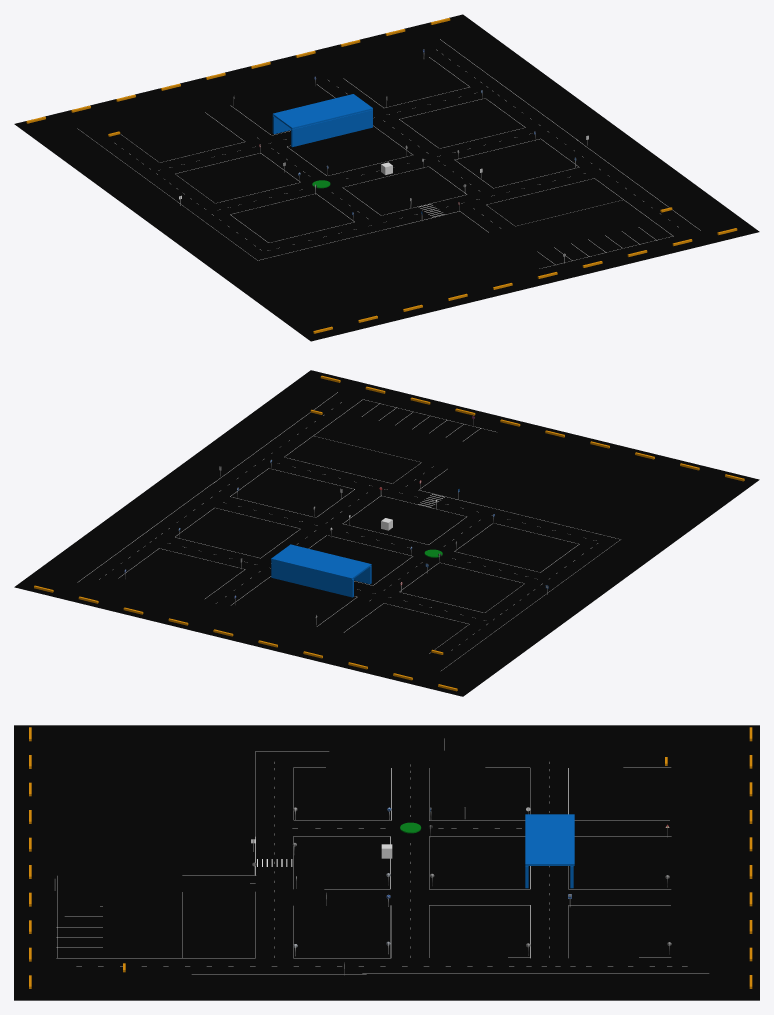
The model's file is RobotaksiMap.dae.
3 renders of one model, top to bottom at view 1: azimuth 30°, elevation 25°; view 2: azimuth 150°, elevation 25°; view 3: azimuth 270°, elevation 25°, orthographic. The views are drawn at different scales.
Parts seen in each view (by area): view 1: Plane.001, Cube_002.001, Cube_001.001; view 2: Plane.001, Cube_002.001, Cube.002; view 3: Plane.001, Cube_002.001.
Boxes of the visible parts, x1=… form: Plane.001: x1=14, y1=14, x2=759, y2=341; Cube_002.001: x1=272, y1=94, x2=372, y2=129; Cube_001.001: x1=291, y1=110, x2=372, y2=147; Plane.001: x1=14, y1=370, x2=759, y2=696; Cube_002.001: x1=271, y1=544, x2=371, y2=579; Cube.002: x1=271, y1=560, x2=353, y2=597; Plane.001: x1=14, y1=725, x2=759, y2=1000; Cube_002.001: x1=525, y1=814, x2=574, y2=865.
Bounding box in the file's own units: 120 × 137 × 5.21.
